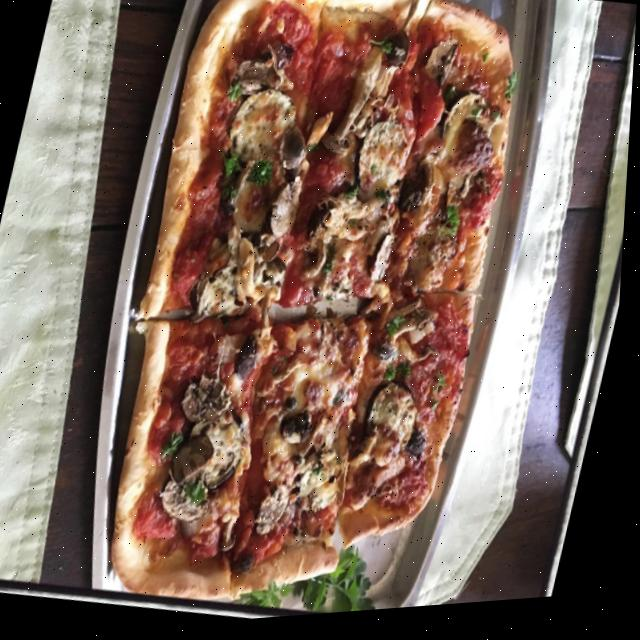mushrooms: (320, 43, 385, 164), (180, 373, 238, 437), (170, 431, 223, 493), (161, 477, 219, 530), (265, 177, 308, 245), (310, 424, 359, 478), (233, 56, 285, 104), (255, 485, 297, 544), (419, 40, 461, 96), (220, 162, 256, 219), (274, 128, 314, 179), (304, 416, 338, 466), (381, 34, 414, 79), (282, 412, 318, 452), (370, 237, 396, 288), (223, 518, 247, 557), (256, 242, 282, 269)
pizza: (71, 0, 558, 634)
